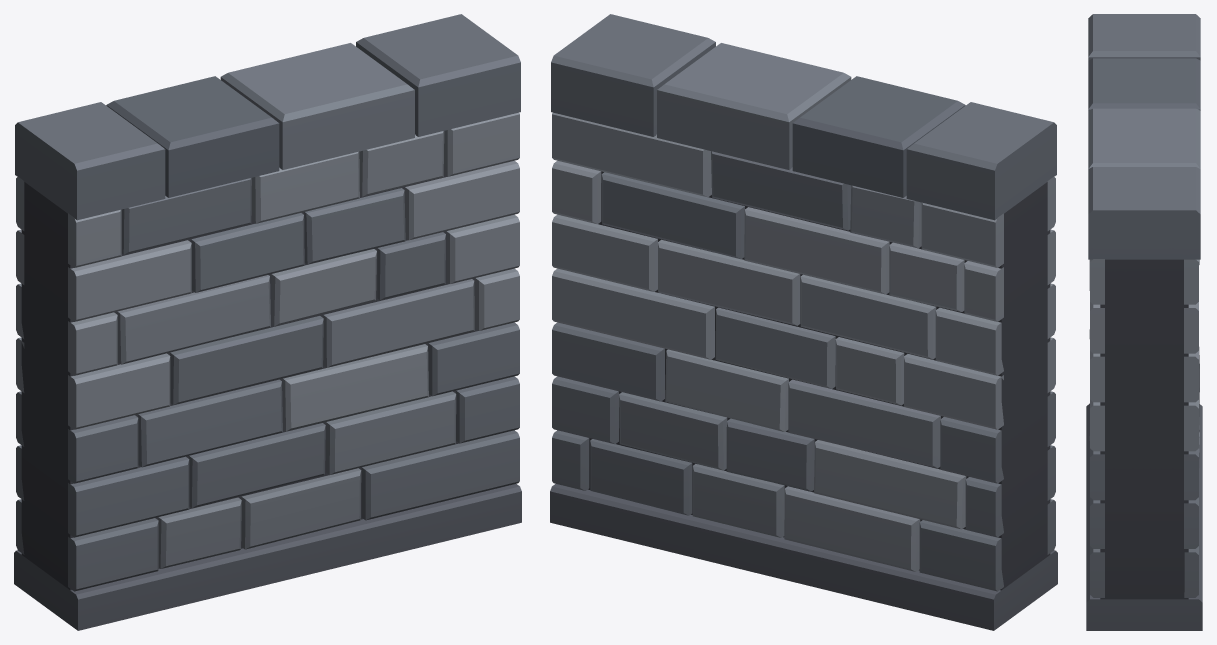
The model's file is wall_ashlar_A.glb.
The picture shows the model from 3 angles, left to right: view 1: azimuth 30°, elevation 25°; view 2: azimuth 150°, elevation 25°; view 3: azimuth 270°, elevation 25°; orthographic projection. The views are drawn at different scales.
Parts seen in each view (by area): view 1: Item; view 2: Item; view 3: Item.
Part boxes in pixels (x1,y1,x2,y2): Item: (14, 14, 521, 630); Item: (550, 14, 1057, 630); Item: (1086, 14, 1202, 630).
Bounding box in the file's own units: 4 × 4 × 1.
1 material, 1 textured.
